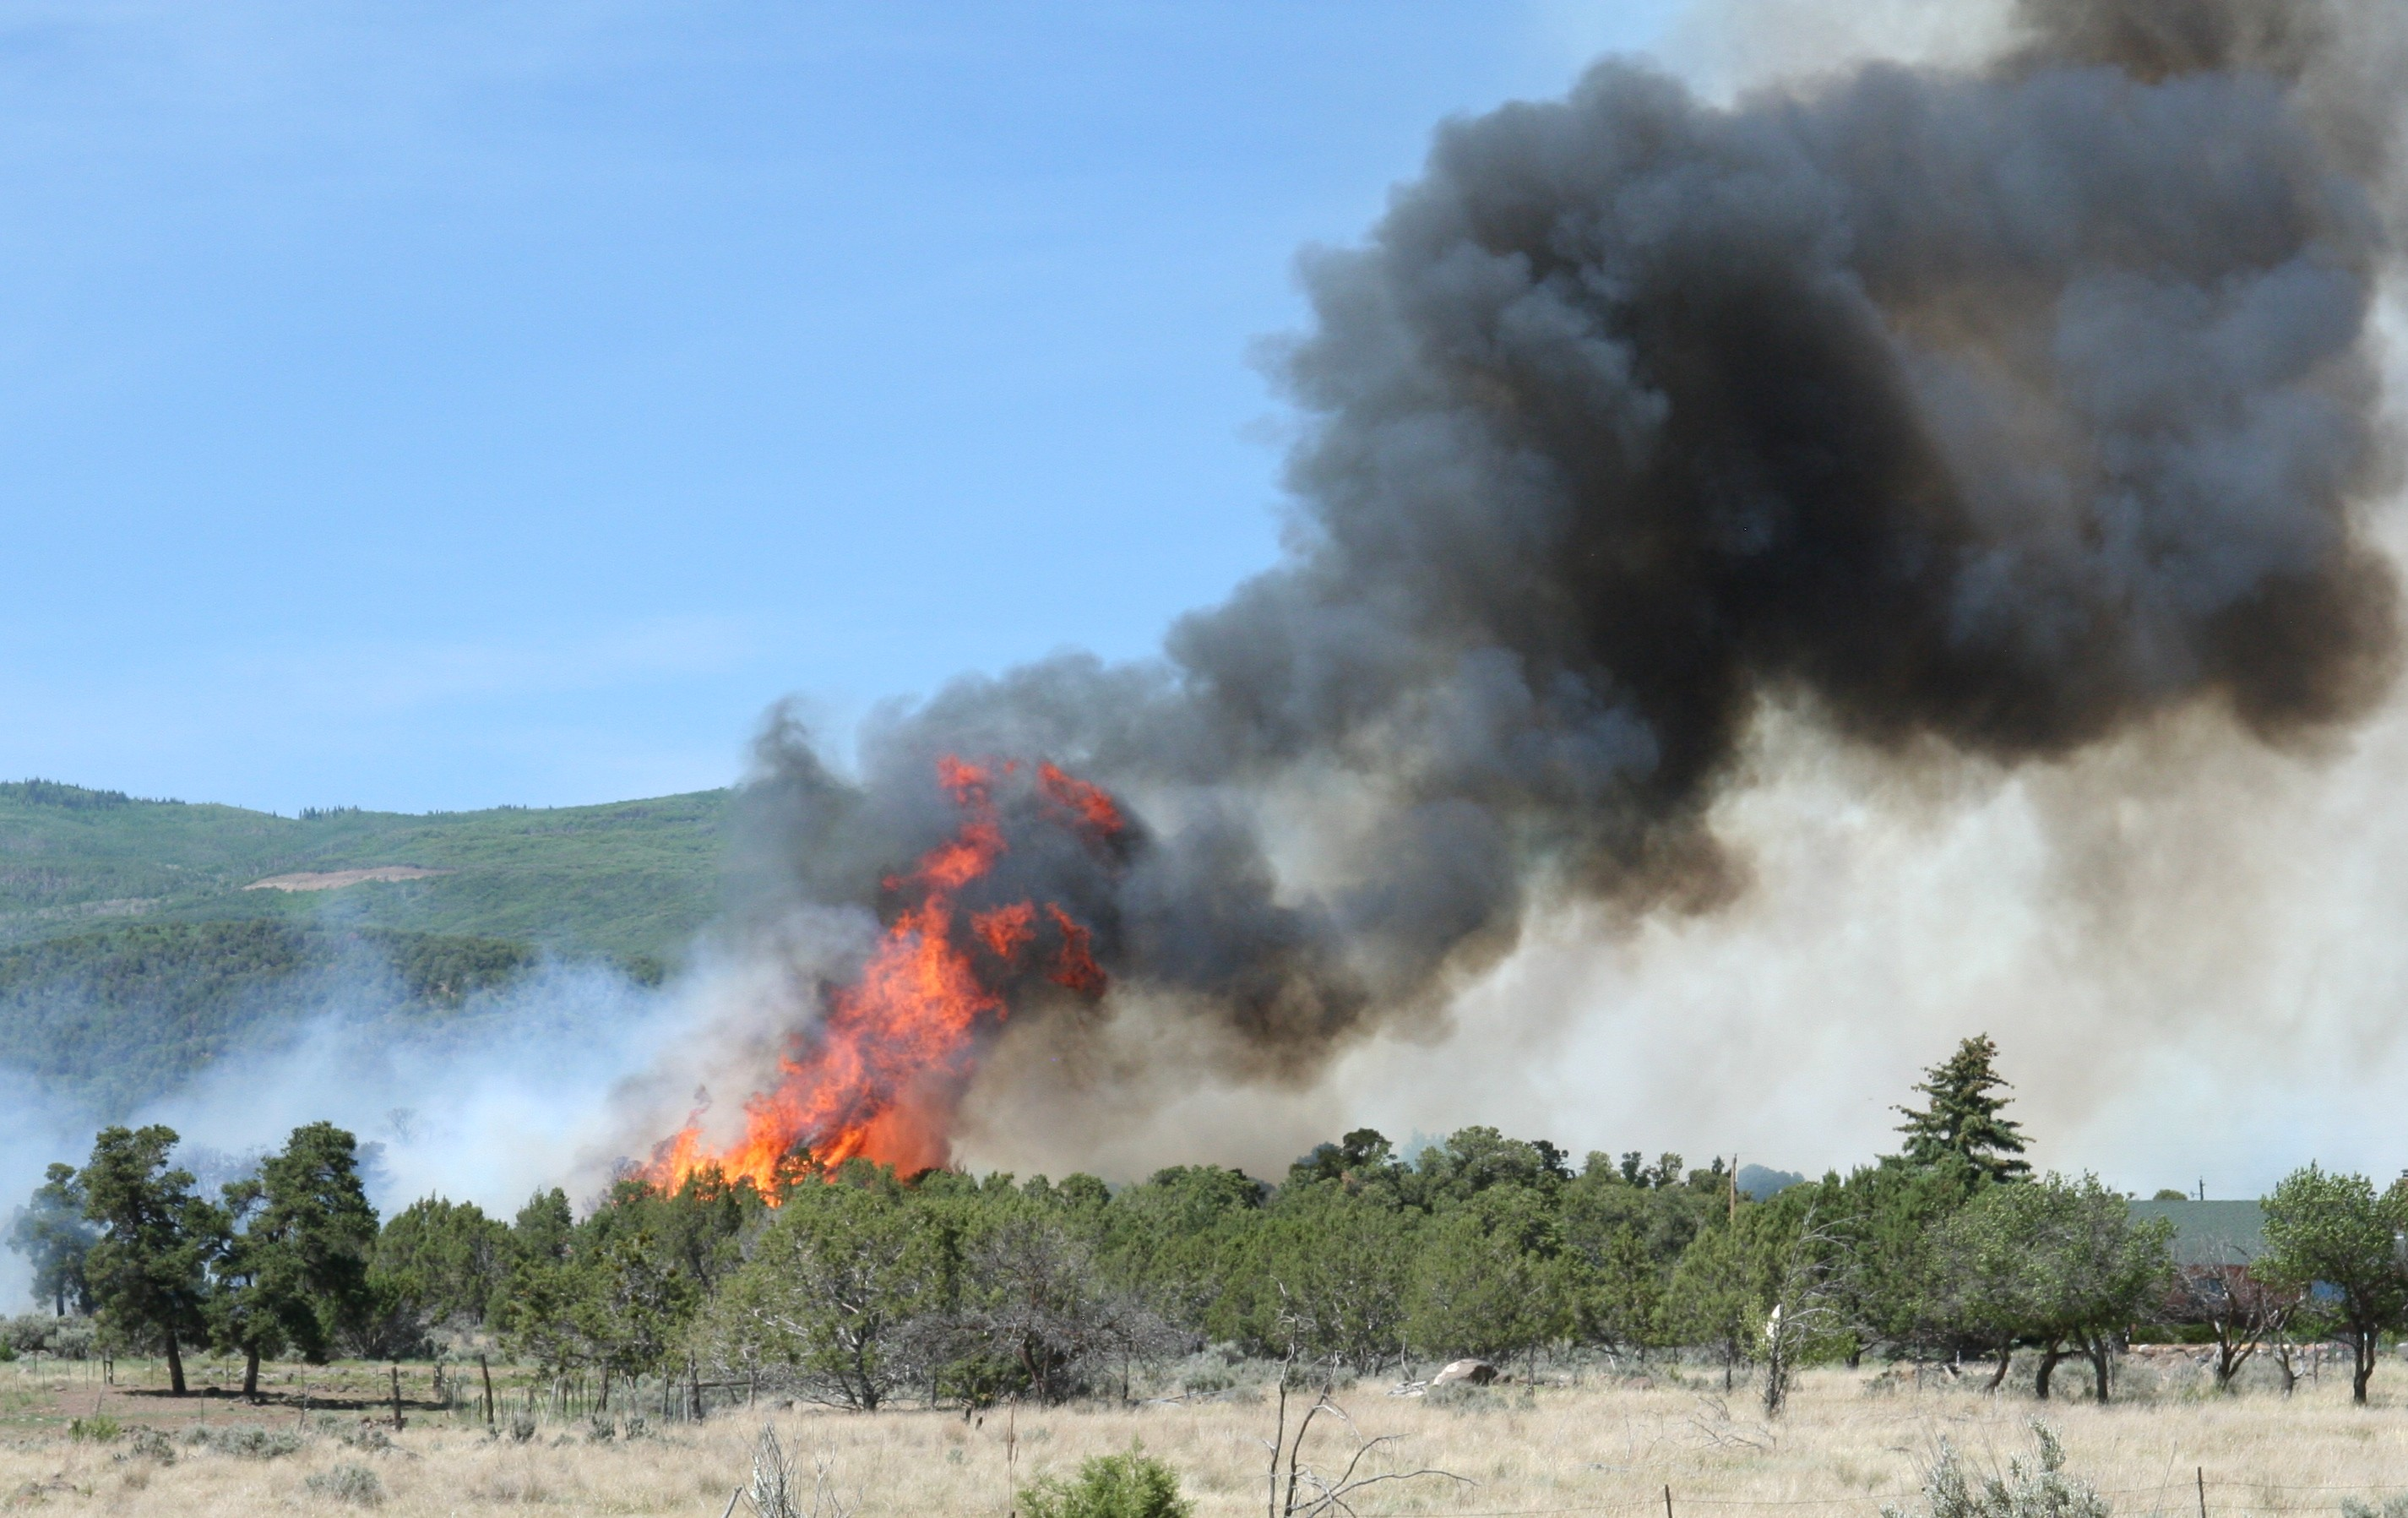fire: (656, 783, 1095, 1208)
